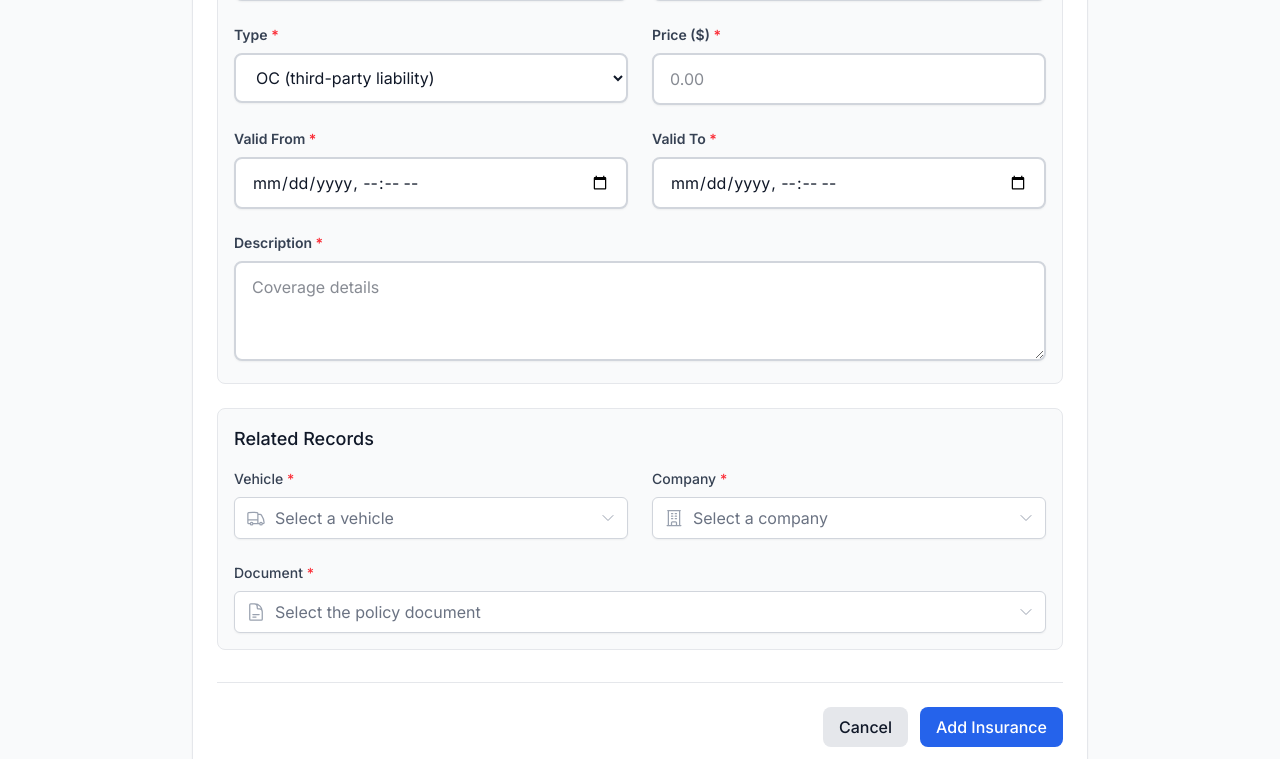
Test: InsuranceForm › blocks an empty submit and lists what is missing
The image size is (1280, 759).
(page scrolled)
Click the button "Add Insurance".
click(992, 727)  # box [920,707,1063,747]
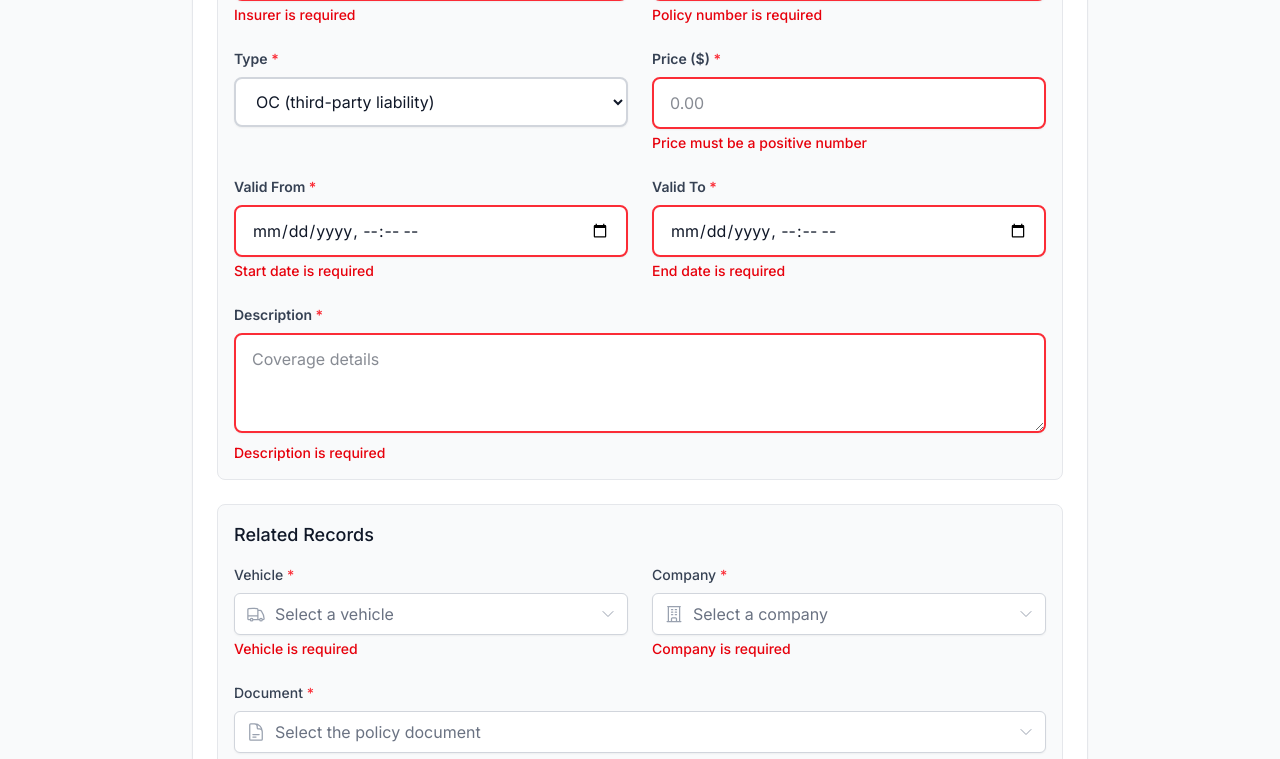
Now the text "Insurer is required" is shown, box [234,6,356,23]
Now the text "Policy number is required" is shown, box [652,6,822,23]
Now the text "Start date is required" is shown, box [234,262,374,279]
